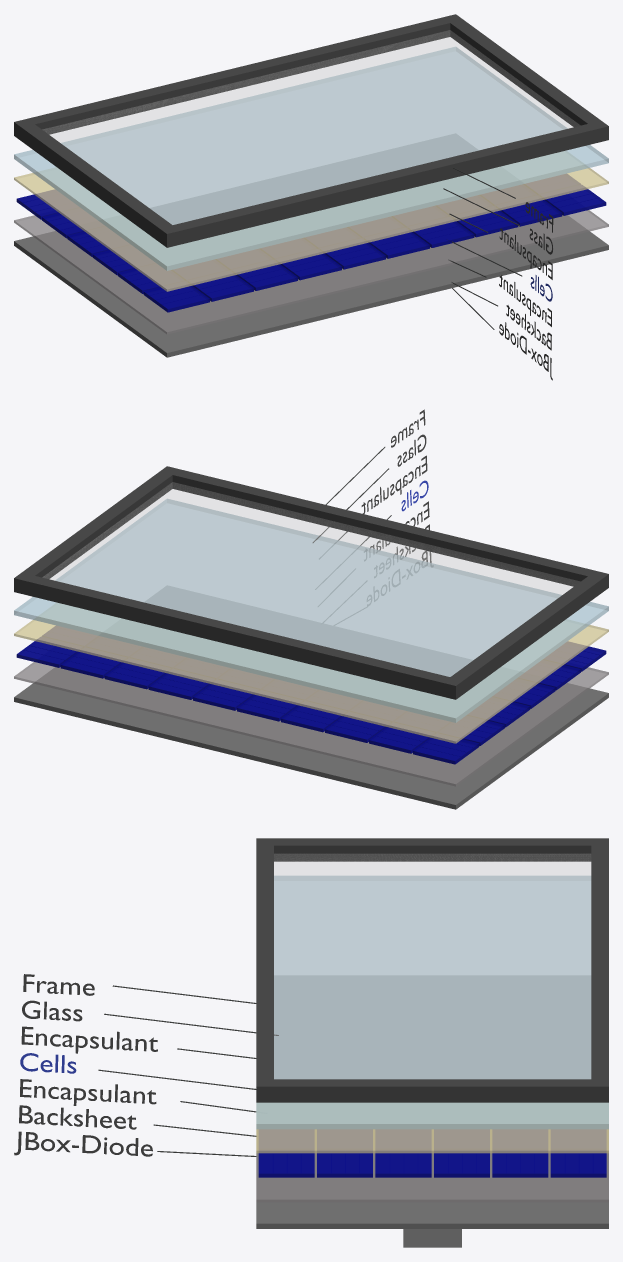
The model's file is pv_module_cell.glb.
The picture shows the model from 3 angles, top to bottom: view 1: azimuth 30°, elevation 25°; view 2: azimuth 150°, elevation 25°; view 3: azimuth 270°, elevation 25°; orthographic projection. The views are drawn at different scales.
Parts seen in each view (by area): view 1: glass, interior, backsheet, frame, eva1, cell, eva2, Text; view 2: glass, interior, backsheet, frame, eva1, cell, eva2, Text; view 3: glass, interior, backsheet, frame, eva1, cell, eva2, Text, jbox.
Part boxes in pixels (x1,y1,x2,y2): glass: (14,46,608,270); interior: (42,30,579,224); backsheet: (14,134,608,357); frame: (14,14,608,247); eva1: (14,151,608,291); cell: (16,174,606,312); eva2: (14,210,608,334); Text: (499,202,553,380); glass: (14,498,608,722); interior: (43,482,579,676); backsheet: (14,586,608,809); frame: (14,466,608,699); eva1: (14,603,608,743); cell: (16,626,606,764); eva2: (14,662,608,786); Text: (361,409,432,605); glass: (256,875,608,1129); interior: (274,854,590,1078); backsheet: (256,976,608,1228); frame: (256,838,608,1102); eva1: (256,1103,608,1153); cell: (258,1129,606,1177); eva2: (256,1130,608,1202); Text: (14,974,157,1156); jbox: (403,1229,461,1247).
Size of the model in its own units: 200 by 69.69 by 202.
